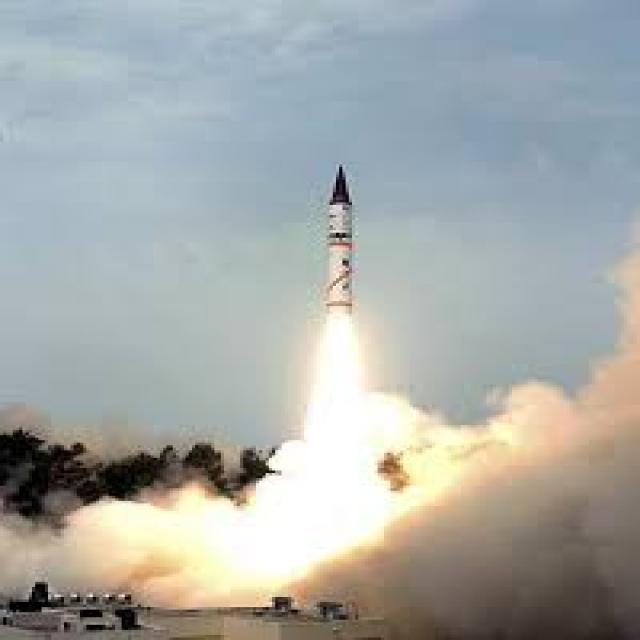missile: (319, 159, 359, 329)
